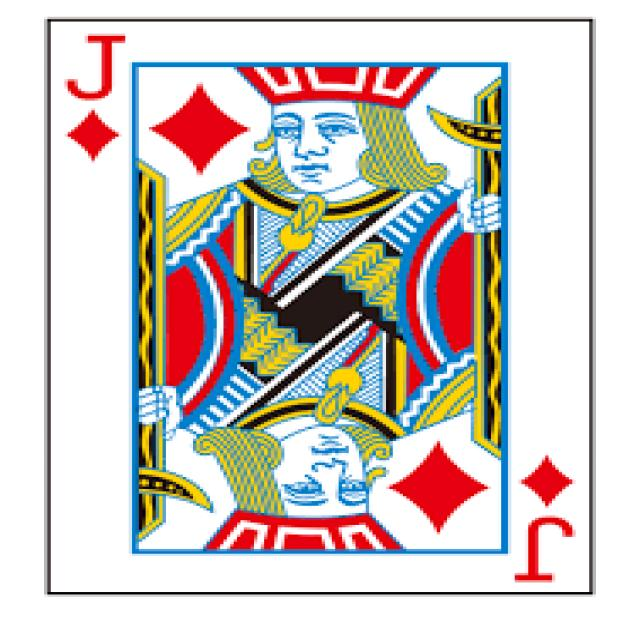RJ: (50, 21, 596, 594)
